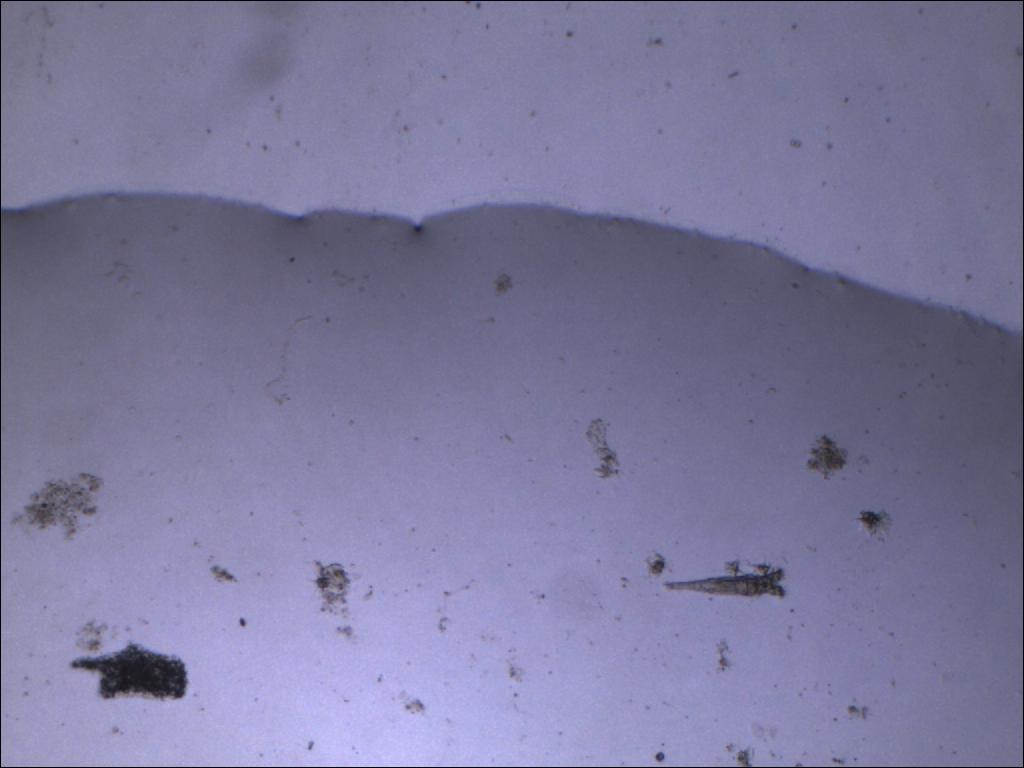amoeba: (67, 638, 194, 710)
